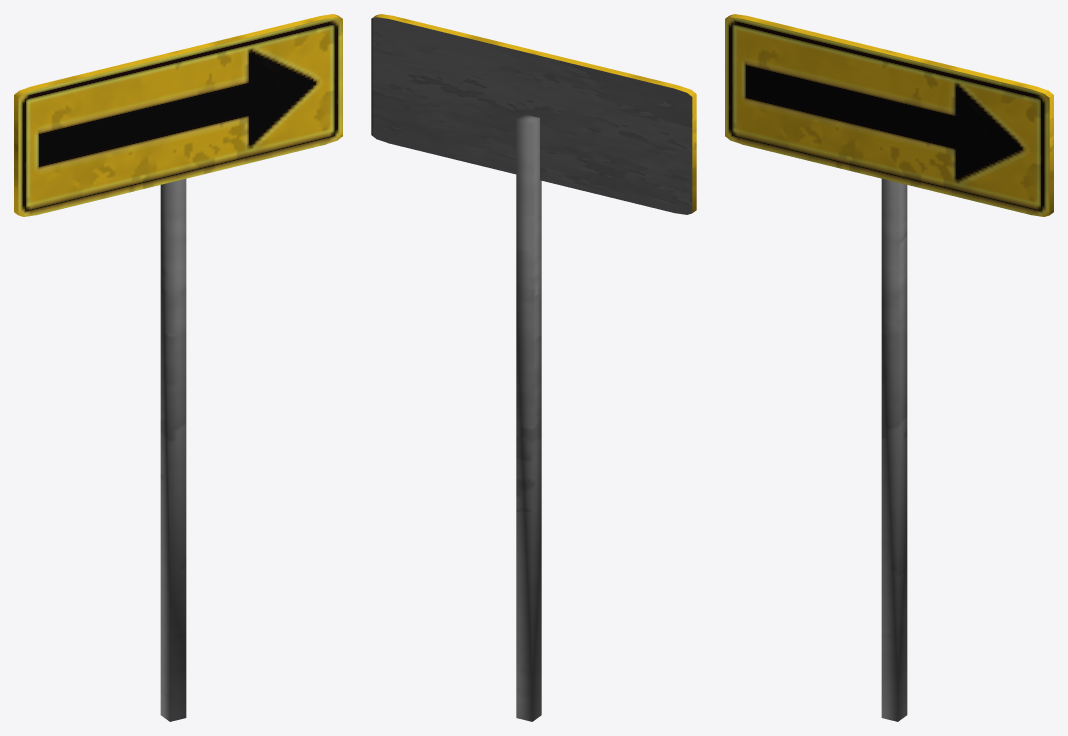
The model's file is Sign_07.glb.
3 renders of one model, left to right at view 1: azimuth 30°, elevation 25°; view 2: azimuth 150°, elevation 25°; view 3: azimuth 330°, elevation 25°, orthographic.
Visible parts, largest first — view 1: Sign_07.001; view 2: Sign_07.001; view 3: Sign_07.001.
Part boxes in pixels (x1,y1,x2,y2): Sign_07.001: [14, 14, 342, 721]; Sign_07.001: [371, 14, 696, 721]; Sign_07.001: [725, 14, 1053, 721].
Bounding box in the file's own units: 0.5616 × 1.1 × 0.0356.
Materials: 1 (1 with a texture image).
